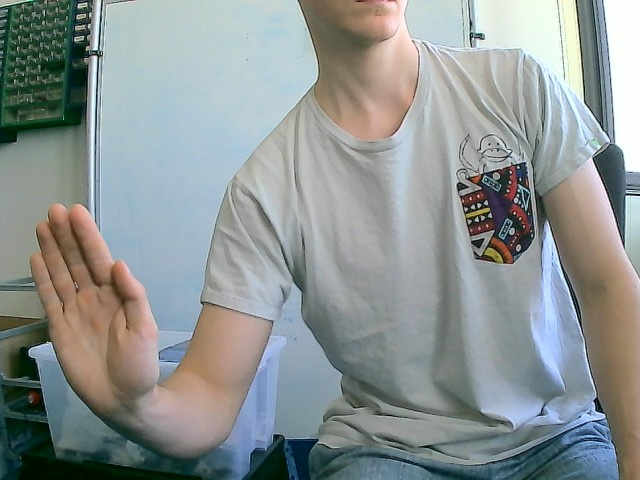stop: (28, 201, 161, 419)
